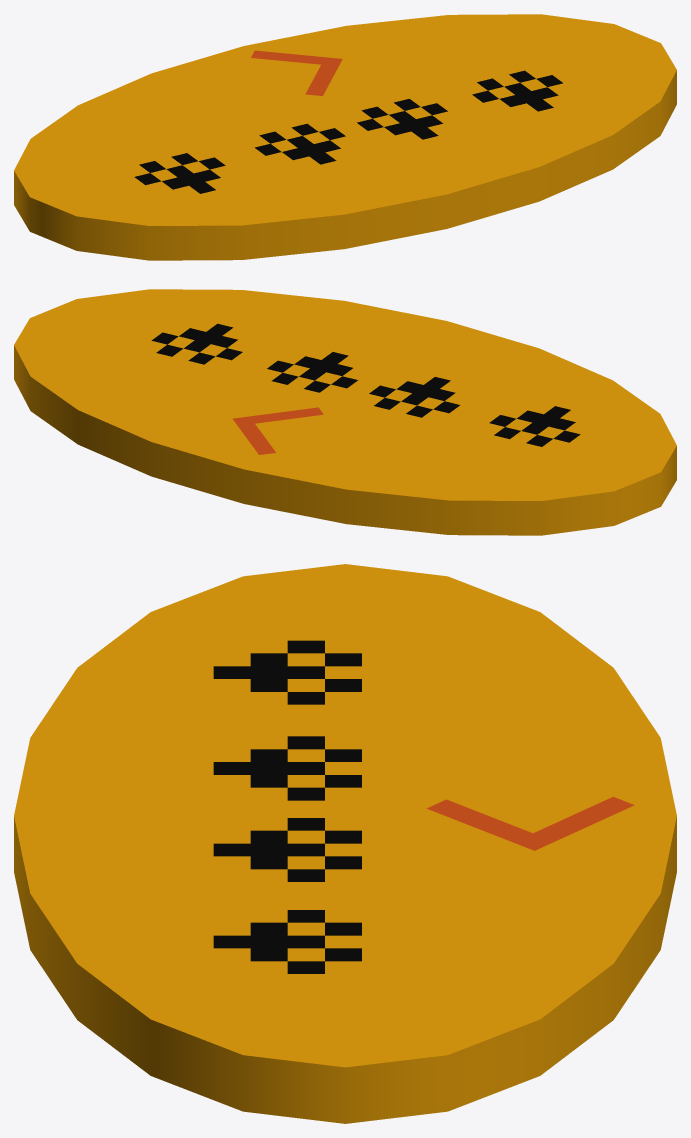
Rendered from miniMeObj.fbx.
3 views of the same model, one above another, from view 1: azimuth 30°, elevation 25°; view 2: azimuth 150°, elevation 25°; view 3: azimuth 270°, elevation 25° (orthographic). The views are drawn at different scales.
Parts seen in each view (by area): view 1: miniMeObj; view 2: miniMeObj; view 3: miniMeObj.
Boxes of the visible parts, left/top/right/bottom form: miniMeObj: left=14, top=14, right=676, bottom=260; miniMeObj: left=14, top=289, right=676, bottom=535; miniMeObj: left=14, top=564, right=676, bottom=1123.
Size of the model in its own units: 0.6115 by 0.037 by 0.3403.
